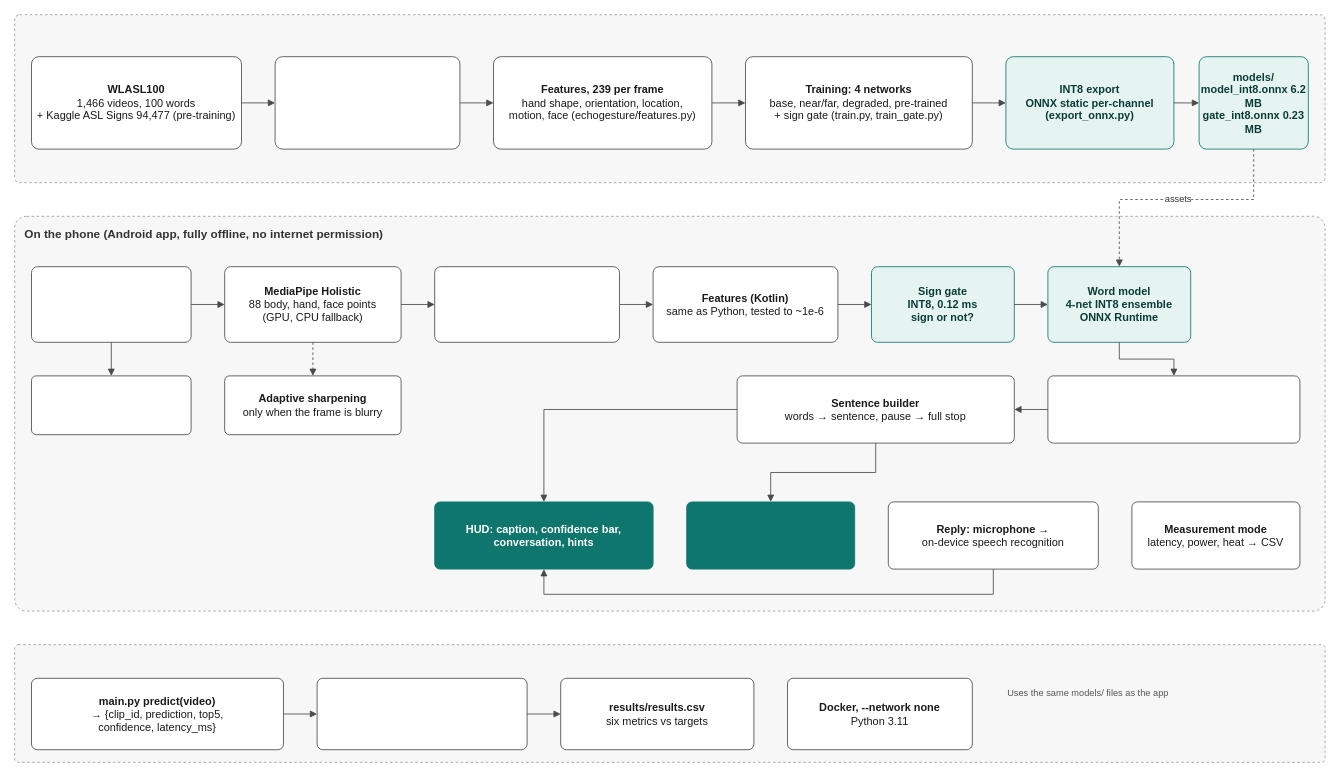
Image size: 1340x777. Some labels were removed from this diagram. The shapes that lost their labels are listed below. From the top down, each one's box as (x1, y1, x2, y2) in pixels, then its label:
(274, 56, 460, 149): MediaPipe Holistic landmark extraction (scripts/extract_landmarks.py)
(14, 14, 1325, 183): Offline, on a computer (training + export)
(31, 266, 191, 342): CameraX 720p frames back camera (exocentric)
(434, 266, 620, 342): Sign detector start / end of a sign (0.5 s pause, movement range)
(31, 375, 191, 435): Low-light check torch / screen ring light
(1047, 375, 1300, 443): Caption rule ≥ 45% and 20 points ahead else grey guess or nothing
(686, 501, 855, 569): Offline voice (TTS)
(316, 677, 527, 750): results/predictions.jsonl 201 official test clips
(14, 644, 1325, 762): Evaluation (the brief's predict())
